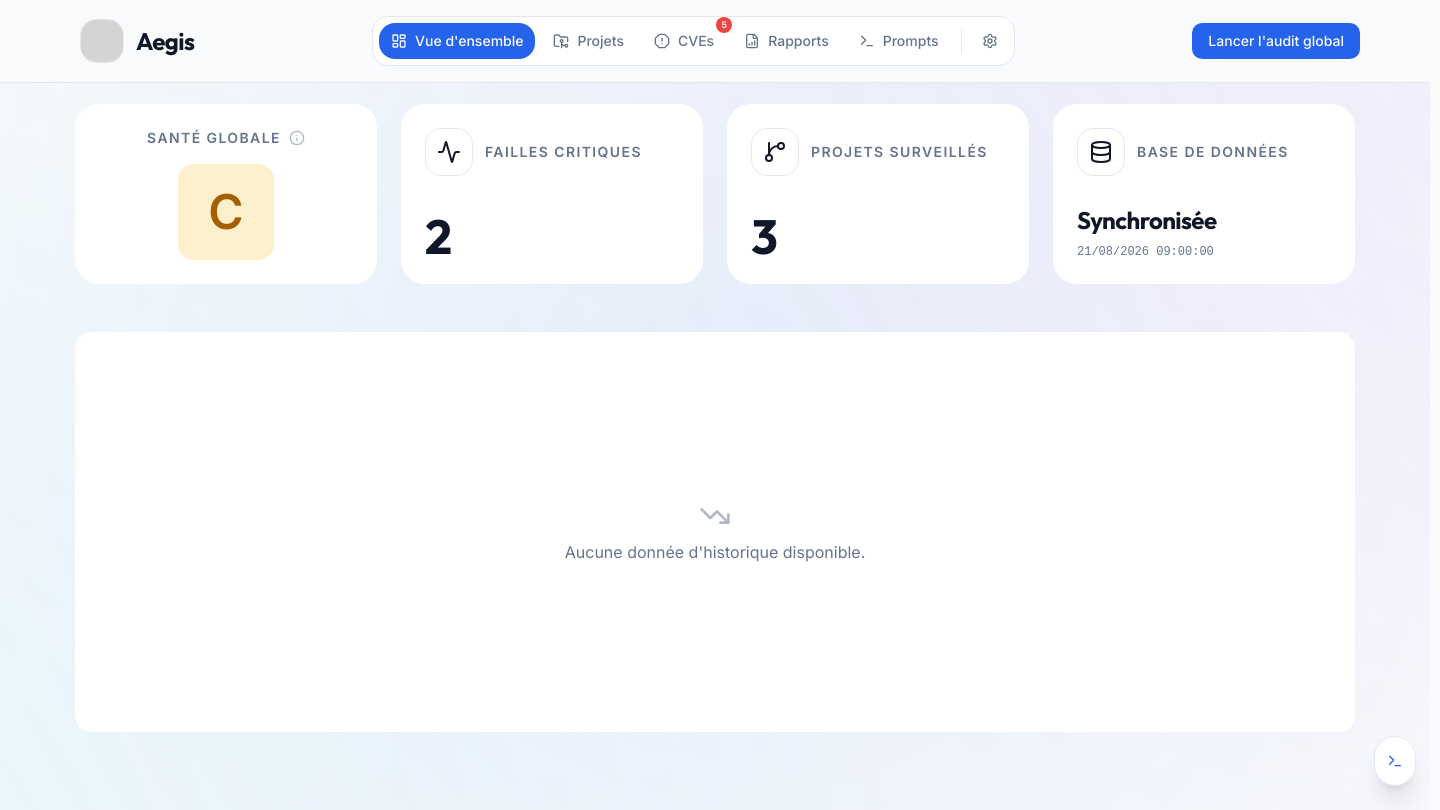
Scenario: App › la progression est affichée sans bloquer la page (N8)
Click the button "Lancer l'audit global": (1276, 41) x1=1192 y1=23 x2=1360 y2=59
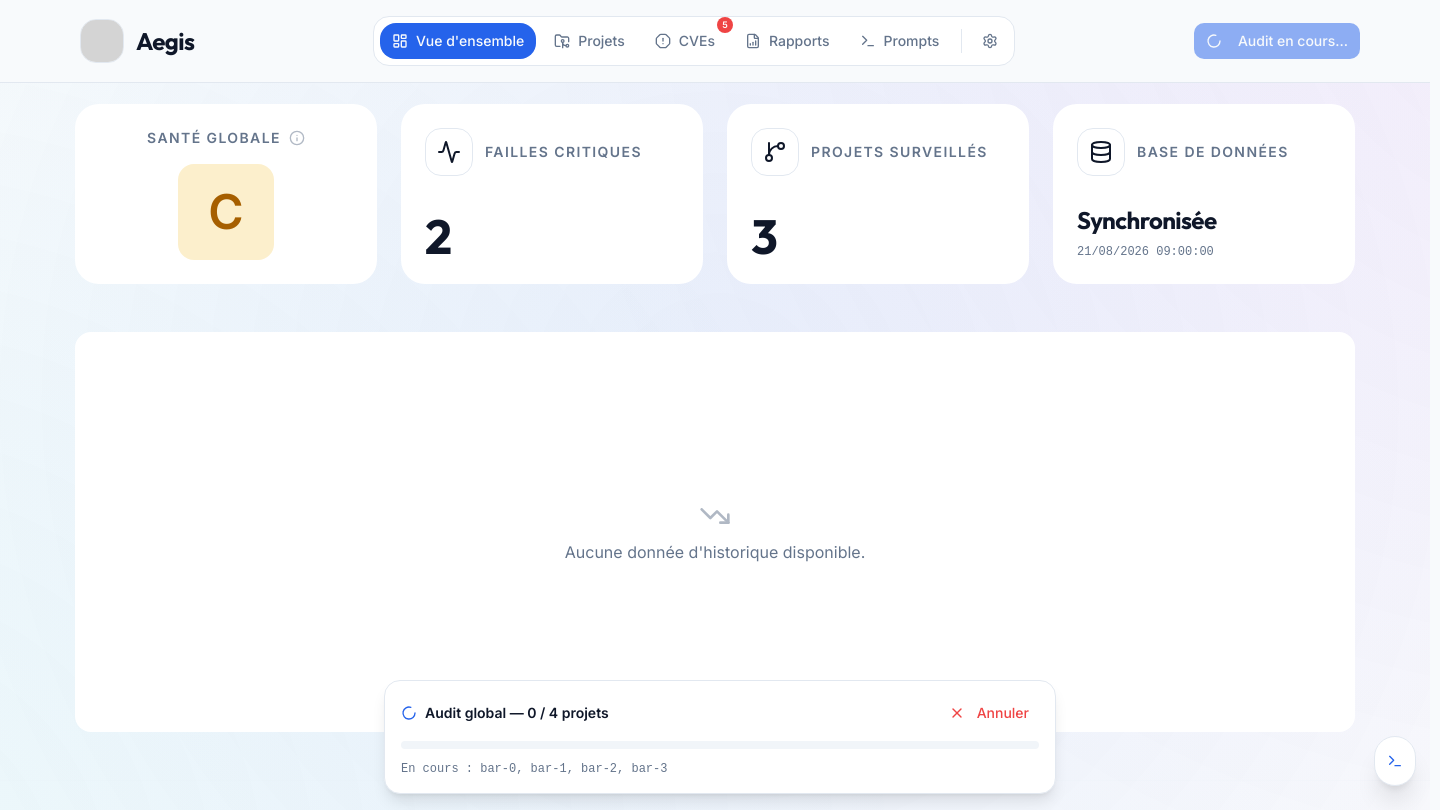
expect the text "Audit global — 0 / 4 projets" is shown: met, box x1=401 y1=703 x2=609 y2=723
